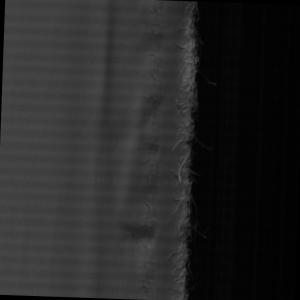Damage: (125, 1, 222, 300)
Wrinkle: (48, 1, 126, 300)
